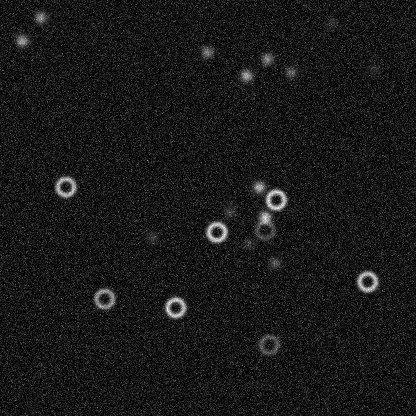Ring: (53, 174, 77, 198), (252, 217, 276, 241), (355, 269, 379, 293), (263, 187, 287, 211), (204, 219, 228, 243), (256, 332, 280, 356), (163, 295, 187, 319), (92, 286, 116, 310)
Spot: (324, 14, 340, 30), (282, 64, 298, 80), (221, 203, 237, 219), (32, 9, 48, 25), (198, 43, 214, 59), (266, 254, 282, 270), (366, 60, 382, 76), (240, 235, 256, 251), (238, 67, 254, 83), (14, 32, 30, 48), (144, 228, 160, 244), (259, 50, 275, 66), (250, 178, 266, 194), (256, 208, 272, 224)
